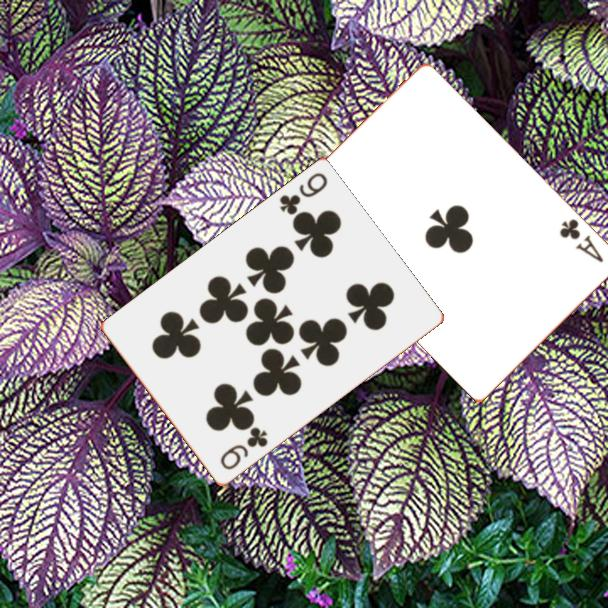c01: (556, 215, 607, 265)
c09: (216, 424, 271, 473), (276, 169, 331, 218)
